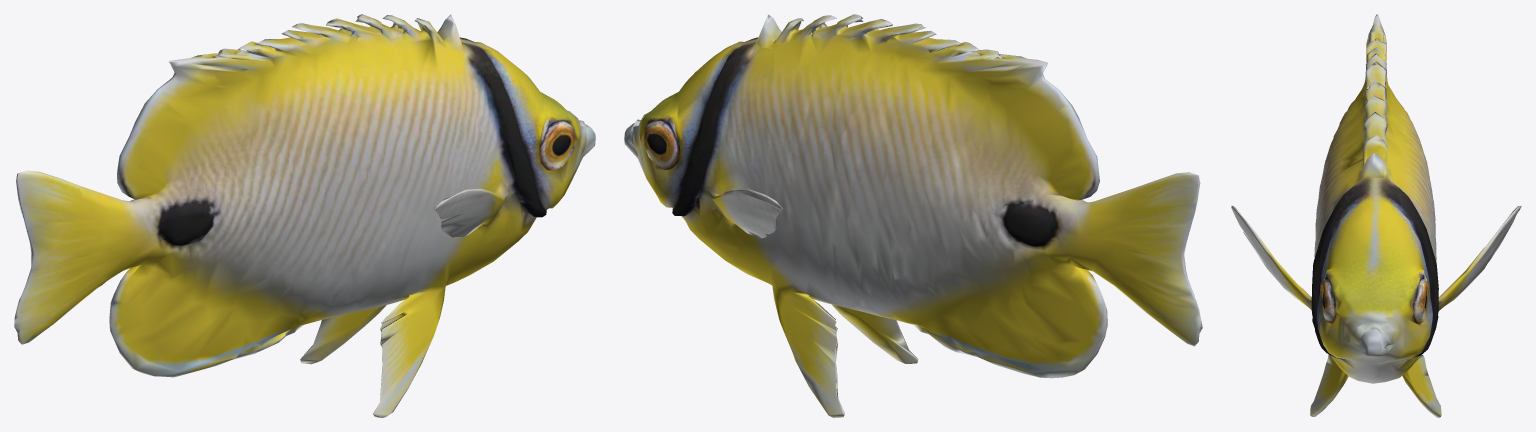
Rendered from butterflyfish.glb.
3 renders of one model, left to right at view 1: azimuth 30°, elevation 25°; view 2: azimuth 150°, elevation 25°; view 3: azimuth 270°, elevation 25°, orthographic. The views are drawn at different scales.
Visible parts, largest first — view 1: tripo_node_f72350d3-9547-40f8-a886-f415eb5e1e82; view 2: tripo_node_f72350d3-9547-40f8-a886-f415eb5e1e82; view 3: tripo_node_f72350d3-9547-40f8-a886-f415eb5e1e82.
Boxes of the visible parts, left/top/right/bottom form: tripo_node_f72350d3-9547-40f8-a886-f415eb5e1e82: left=14, top=14, right=595, bottom=417; tripo_node_f72350d3-9547-40f8-a886-f415eb5e1e82: left=624, top=14, right=1202, bottom=417; tripo_node_f72350d3-9547-40f8-a886-f415eb5e1e82: left=1231, top=14, right=1521, bottom=417.
Size of the model in its own units: 0.9993 by 0.6252 by 0.4985.
1 material, 1 textured.
